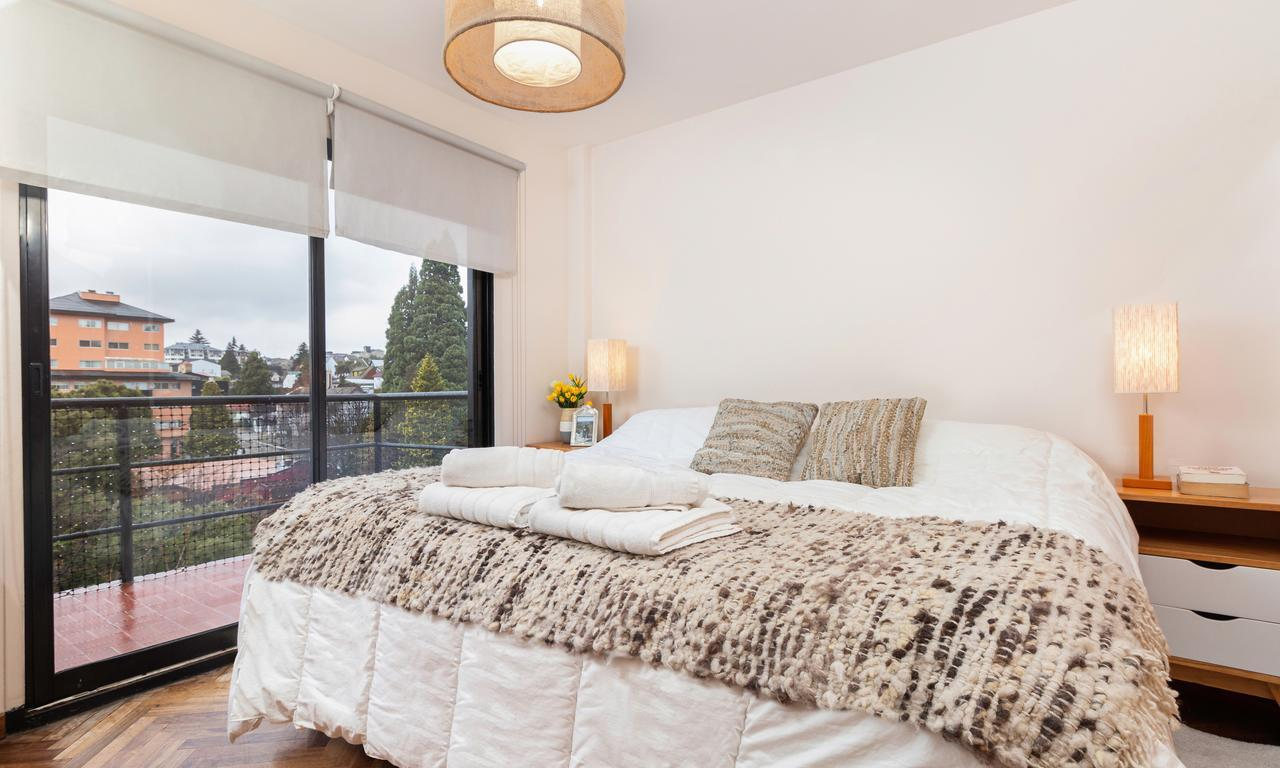bed: (412, 288, 1130, 768)
